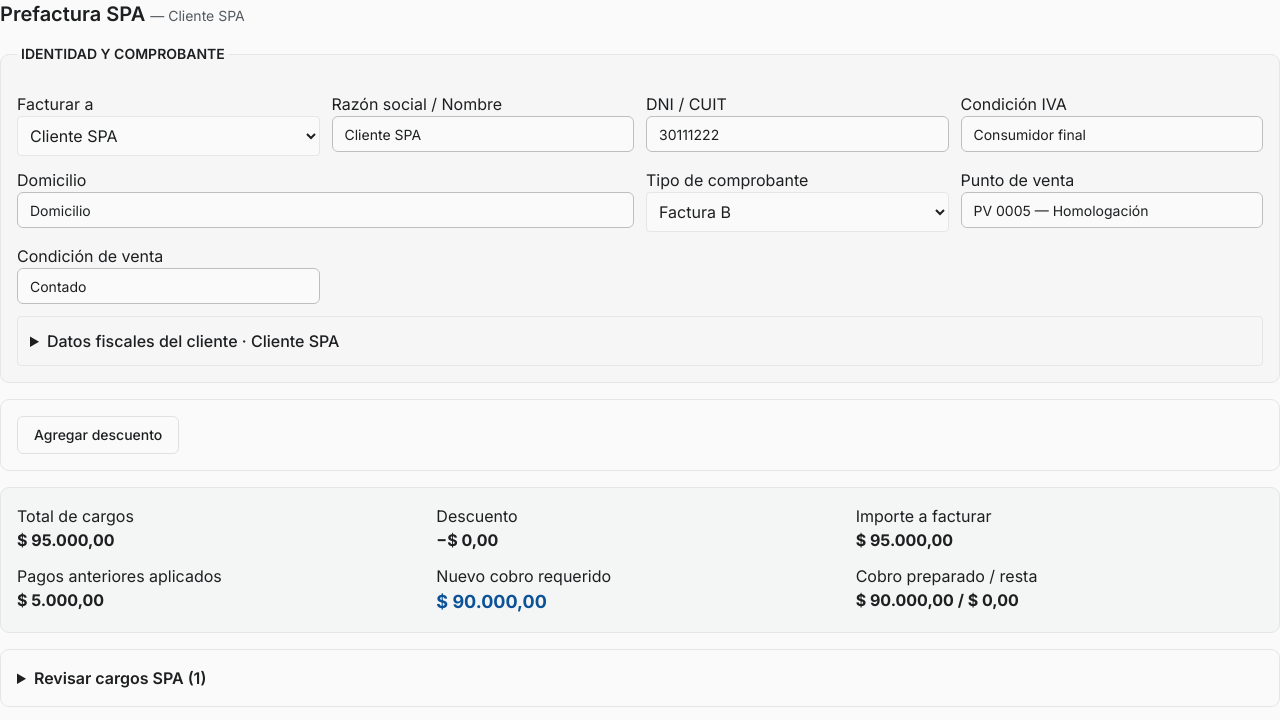
Test: shows an incompatible fiscal type without preparing or collecting
This screenshot has width=1280, height=720.
Select "Factura A" in the dropdown labelled "Tipo de comprobante": (797, 212) [646,192,948,232]
(page scrolled)
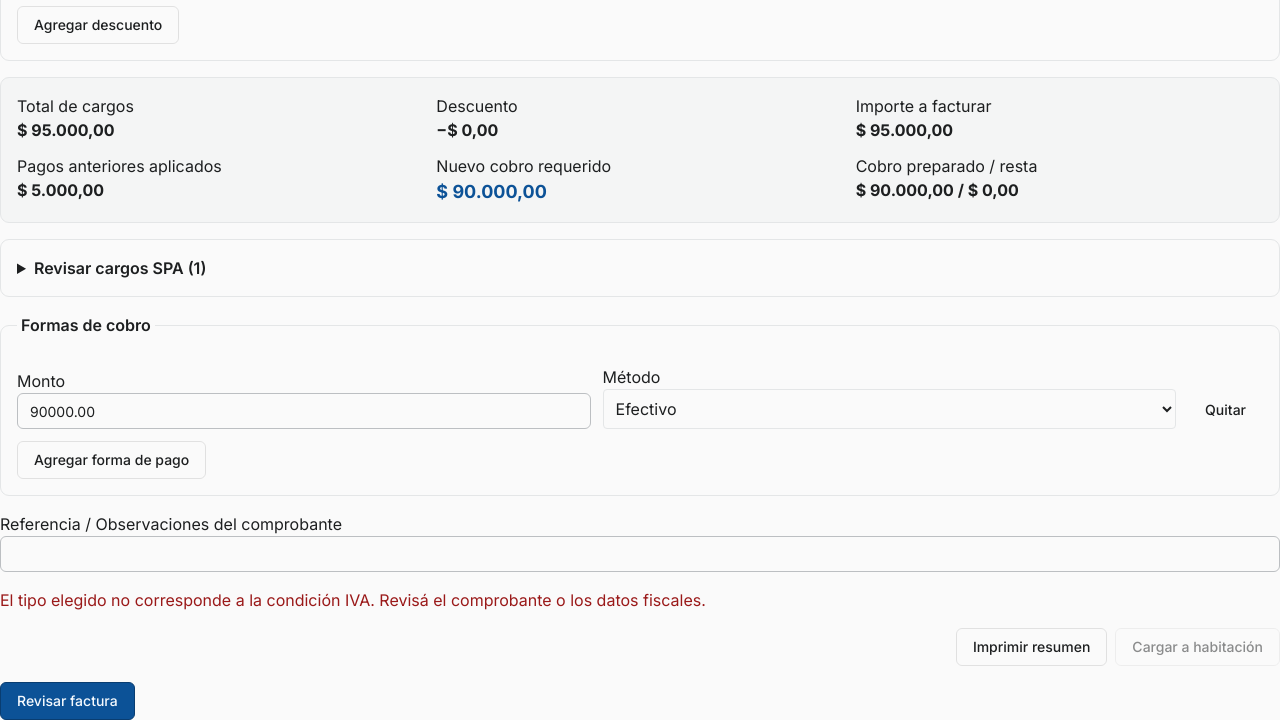
Click the button "Revisar factura": (67, 701) [0,682,135,719]
(page scrolled)
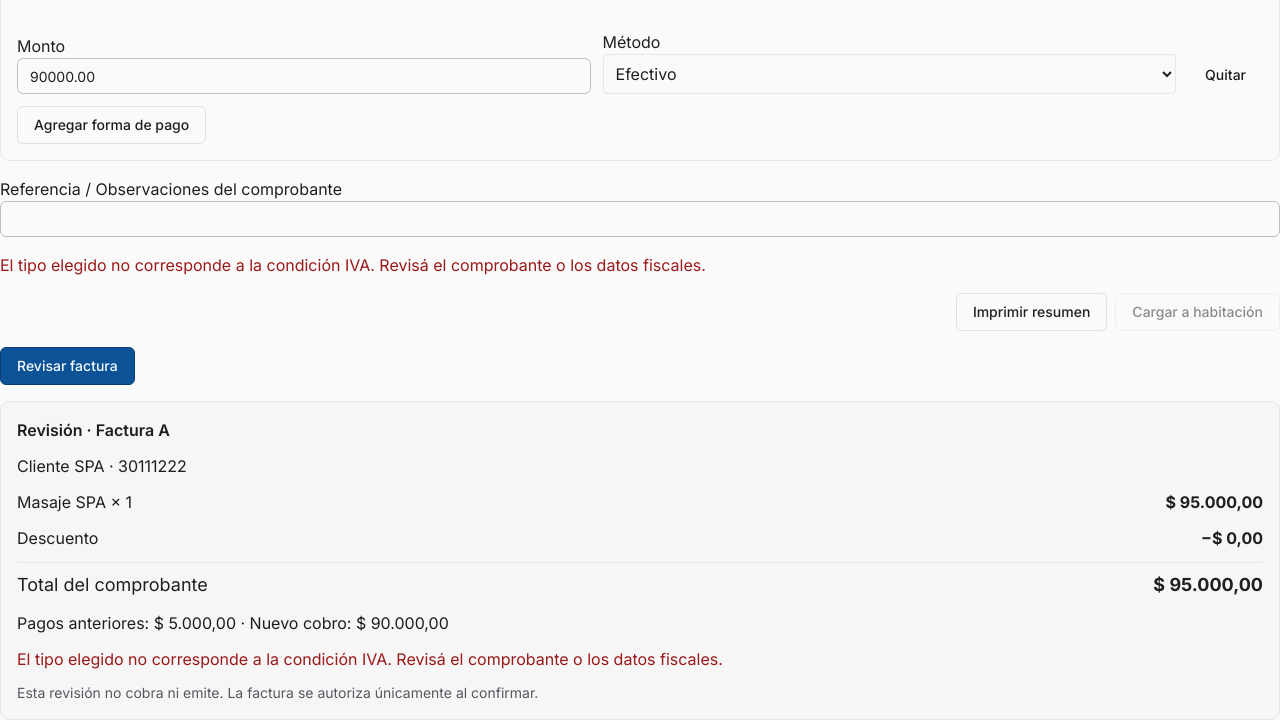
Now the element named "Revisión del comprobante SPA" shows "no corresponde", box [17,649,723,669]
